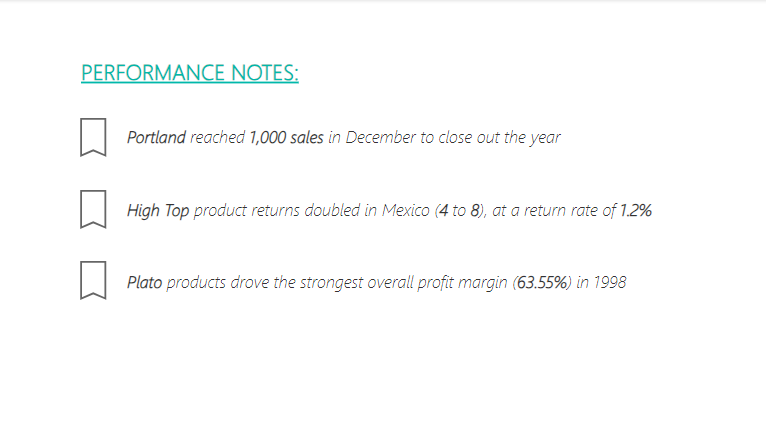

The page's visual inventory and layout, read from the dashboard file:
{"tool":"powerbi","page":{"name":"Notes","canvas":[1280,720],"ordinal":1},"visuals":[{"type":"textbox","box":[180.9,244.5,908.3,107.6],"z":0},{"type":"actionButton","box":[111.2,249.4,69.7,77],"z":1000},{"type":"textbox","box":[180.9,360.6,951,75.8],"z":2000},{"type":"actionButton","box":[111.2,360.6,69.7,75.8],"z":3000},{"type":"textbox","box":[117.4,99,539.1,150.4],"z":4000}]}

Visuals, with their boxes on the page's 1280x720 design canvas (x1, y1, x2, y2). These are canvas units, not pixel positions in the 766x445 screenshot, which may show the page scaled, cropped or inside an application window:
textbox: BBox(181, 244, 1089, 352)
actionButton: BBox(111, 249, 181, 326)
textbox: BBox(181, 361, 1132, 436)
actionButton: BBox(111, 361, 181, 436)
textbox: BBox(117, 99, 656, 249)
